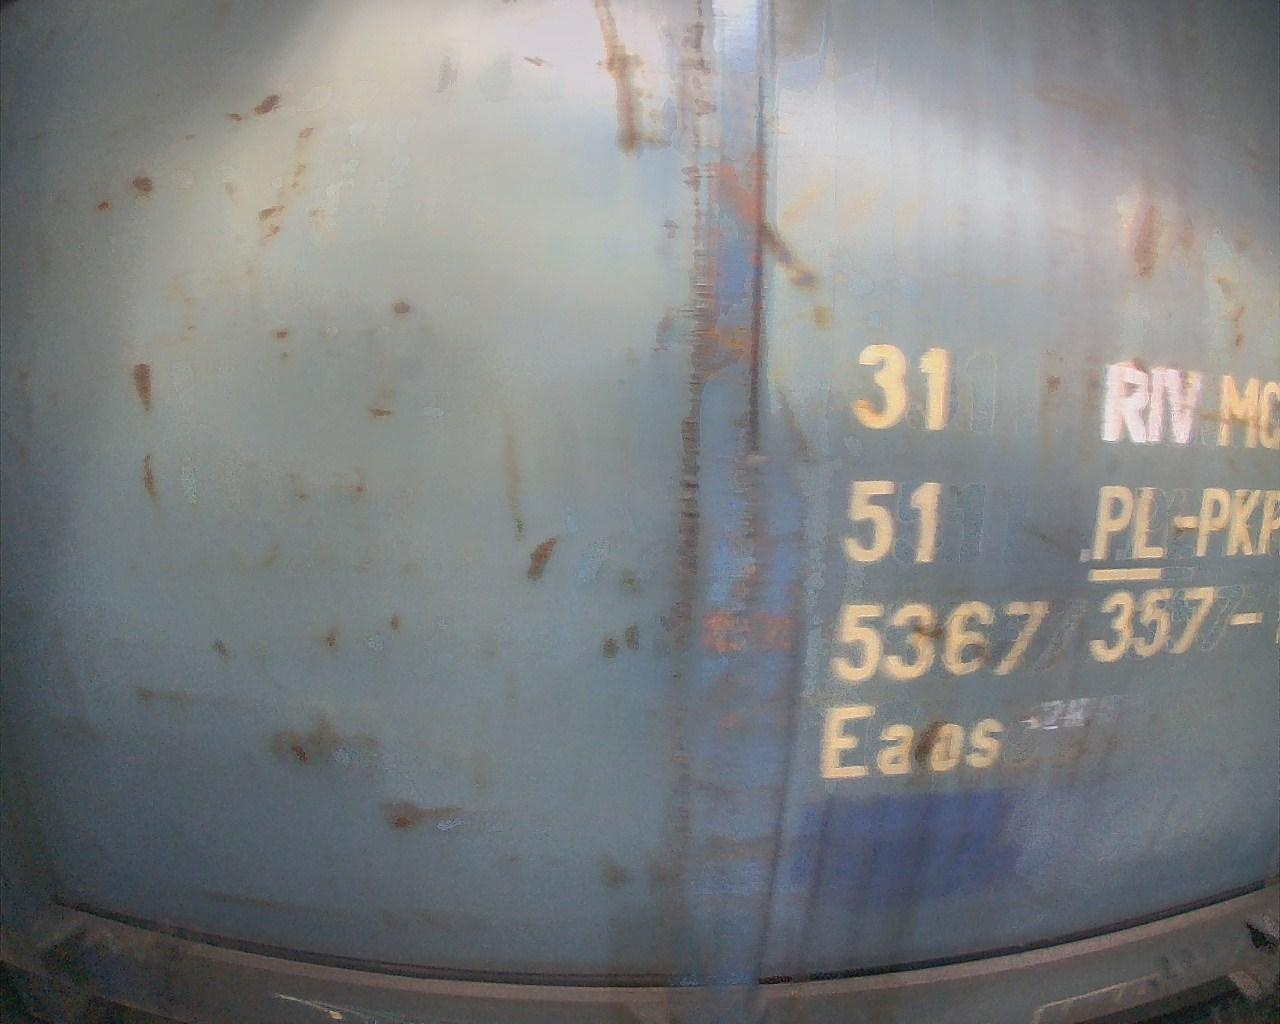UIC: (811, 335, 1280, 793)
